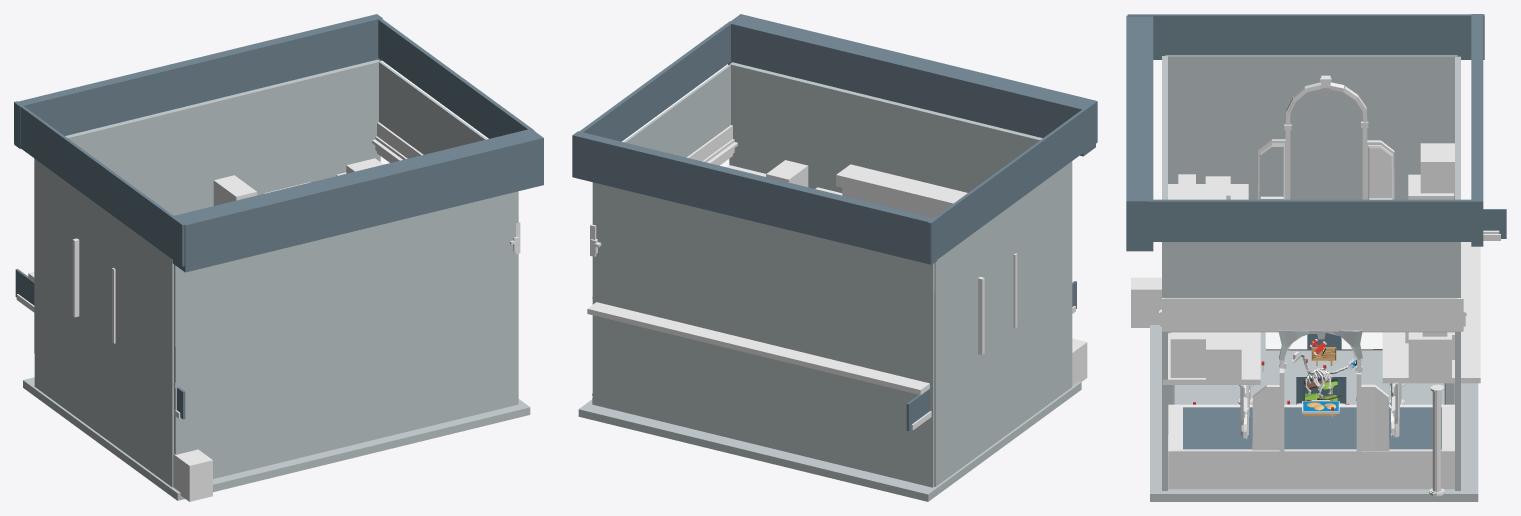
Rendered from Museum.fbx.
3 views of the same model, side by side, from view 1: azimuth 30°, elevation 25°; view 2: azimuth 150°, elevation 25°; view 3: azimuth 270°, elevation 25° (orthographic). The views are drawn at different scales.
Parts seen in each view (by area): view 1: group853941034, group395243803, group156993652, group1953011220, group1925979723, group689543294, group558278867, group436196863, group793193501, group1582220023, group149663869, group1612683714 (+2 smaller); view 2: group156993652, group395243803, group853941034, group1925979723, group1953011220, group689543294, group558278867, group436196863, group719696710, group793193501, group1152385336, group149663869 (+5 smaller); view 3: group395243803, group1166085555, group793193501, group558278867, group436196863, group689543294, group1676229897, group1953011220, group391671949, group719696710, group149663869, group1925979723 (+17 smaller).
Boxes of the visible parts, left/top/right/bottom form: group853941034: left=174, top=191, right=518, bottom=478; group395243803: left=34, top=159, right=173, bottom=487; group156993652: left=34, top=59, right=380, bottom=353; group1953011220: left=172, top=129, right=543, bottom=272; group1925979723: left=14, top=14, right=382, bottom=148; group689543294: left=14, top=101, right=185, bottom=266; group558278867: left=23, top=377, right=530, bottom=500; group436196863: left=378, top=19, right=534, bottom=138; group793193501: left=379, top=61, right=486, bottom=154; group1582220023: left=173, top=449, right=212, bottom=501; group149663869: left=72, top=238, right=115, bottom=343; group1612683714: left=213, top=175, right=257, bottom=205; group156993652: left=592, top=182, right=934, bottom=487; group395243803: left=934, top=161, right=1072, bottom=486; group853941034: left=729, top=62, right=1042, bottom=192; group1925979723: left=572, top=131, right=937, bottom=264; group1953011220: left=728, top=14, right=1095, bottom=156; group689543294: left=927, top=100, right=1097, bottom=264; group558278867: left=578, top=381, right=1081, bottom=501; group436196863: left=579, top=21, right=730, bottom=141; group719696710: left=587, top=302, right=929, bottom=395; group793193501: left=623, top=65, right=730, bottom=157; group1152385336: left=836, top=164, right=967, bottom=211; group149663869: left=978, top=253, right=1017, bottom=354; group395243803: left=1165, top=55, right=1457, bottom=199; group1166085555: left=1168, top=397, right=1454, bottom=489; group793193501: left=1164, top=242, right=1457, bottom=332; group558278867: left=1150, top=325, right=1478, bottom=501; group436196863: left=1148, top=199, right=1471, bottom=241; group689543294: left=1127, top=14, right=1484, bottom=59; group1676229897: left=1162, top=296, right=1463, bottom=331; group1953011220: left=1126, top=15, right=1153, bottom=251; group391671949: left=1252, top=332, right=1389, bottom=454; group719696710: left=1382, top=242, right=1480, bottom=383; group149663869: left=1258, top=75, right=1394, bottom=199; group1925979723: left=1471, top=14, right=1483, bottom=246.
Bounding box in the file's own units: 38.44 × 32.81 × 28.76.
